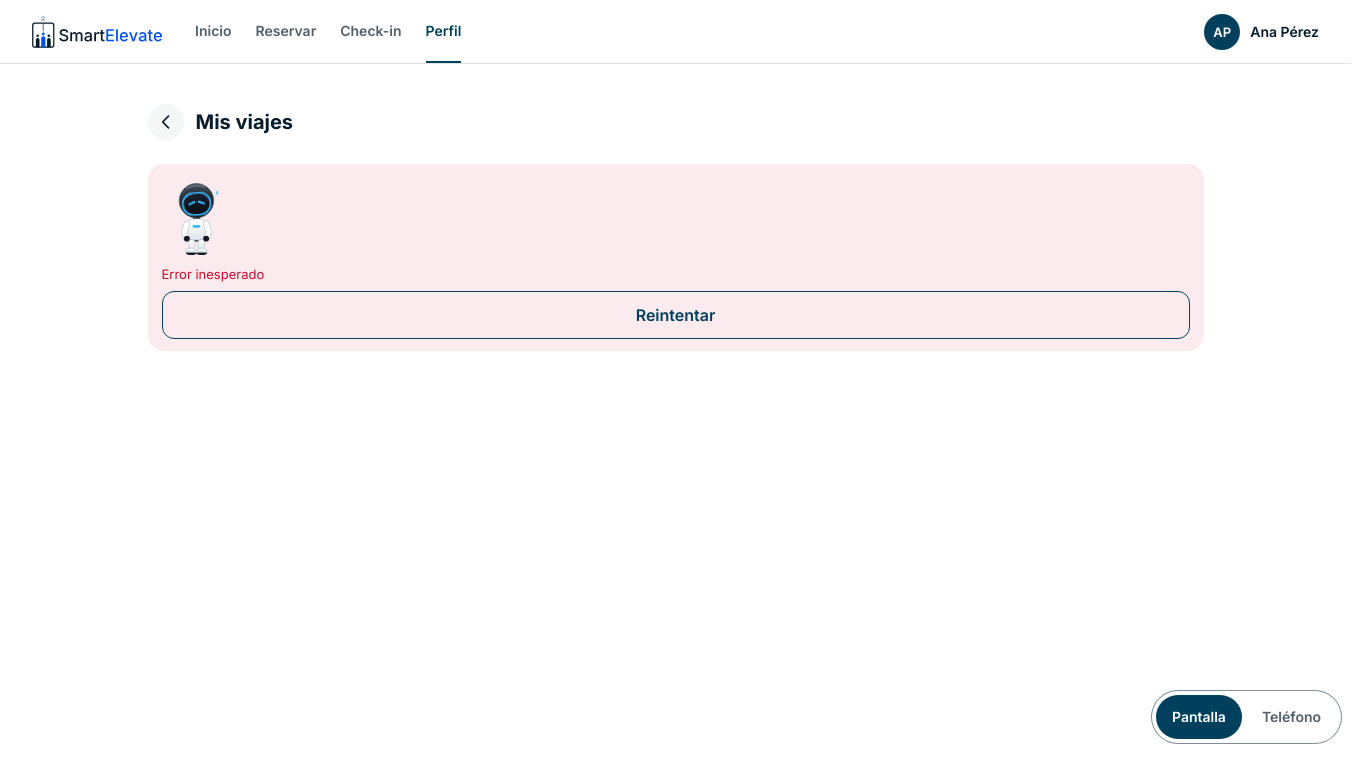
MyTripsPage › muestra el error y permite reintentar
Expected: the message shows "Error inesperado", [162, 266, 264, 282]
Click the button "Reintentar".
click(676, 315)  # box [162, 291, 1190, 339]
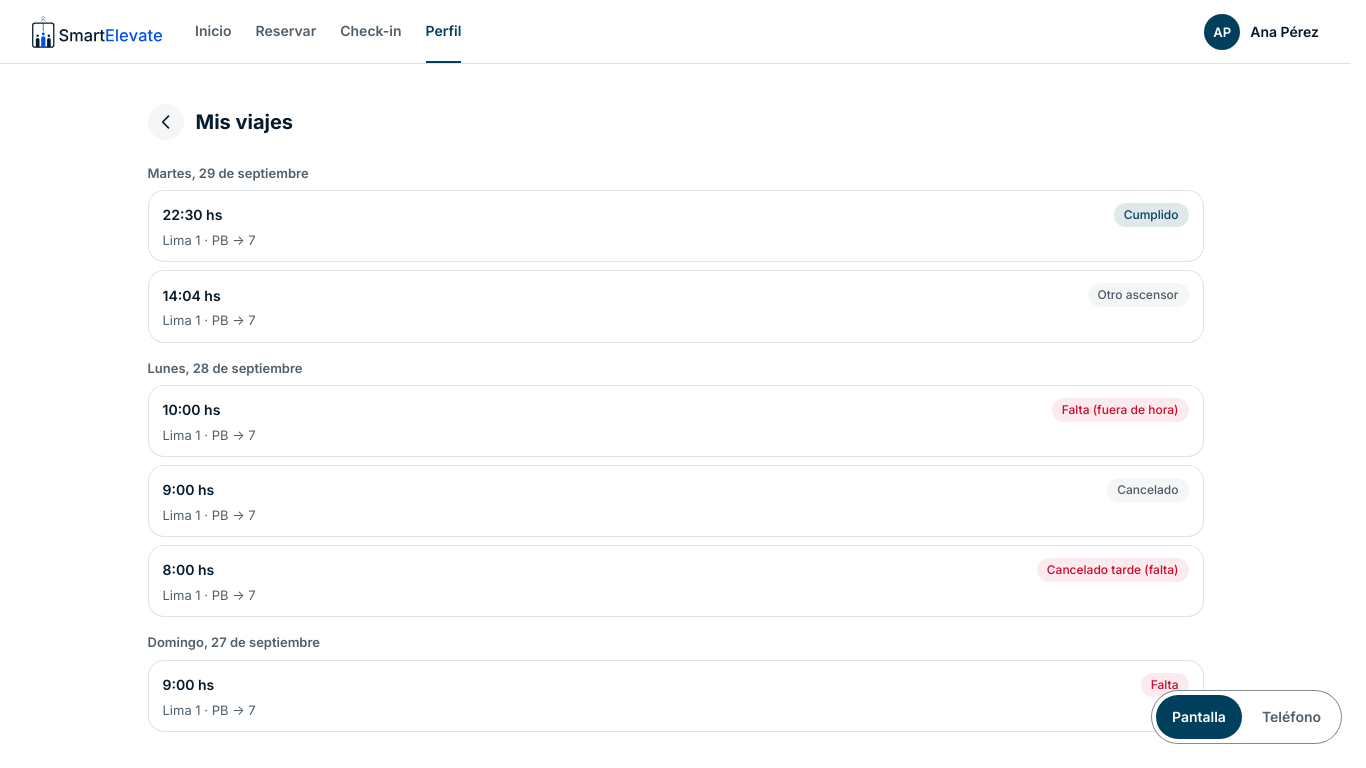
Result: the text "Cumplido" is shown at [1114, 203, 1188, 227]
